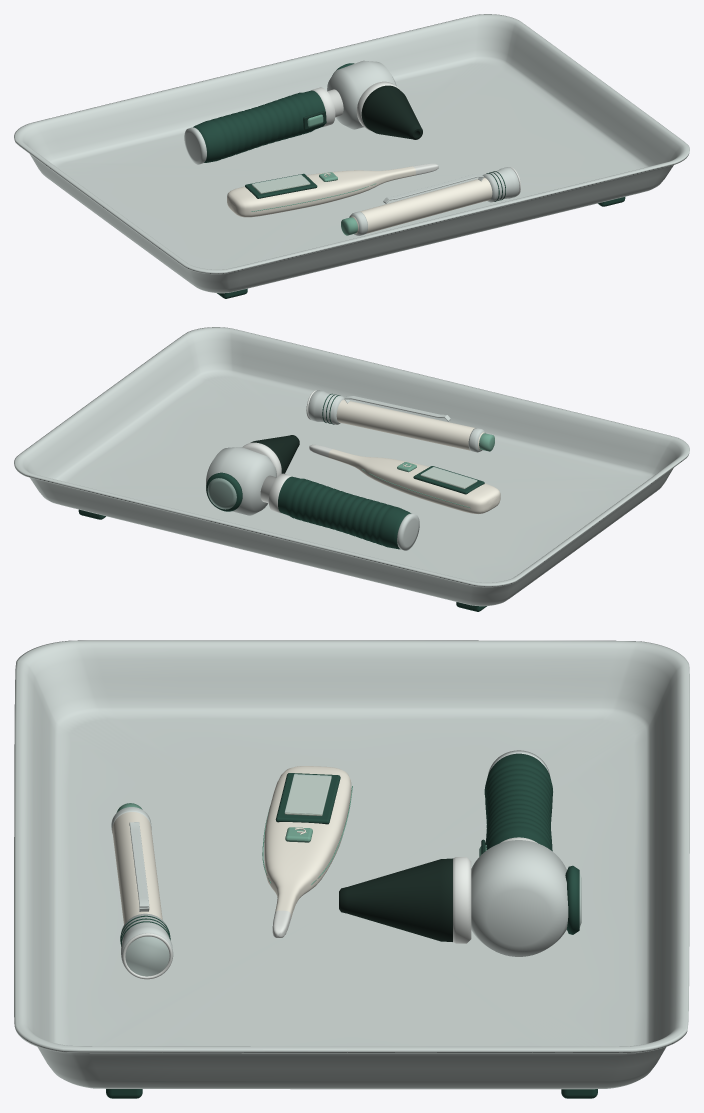
File: instruments-tray.glb
The picture shows the model from 3 angles, top to bottom: view 1: azimuth 30°, elevation 25°; view 2: azimuth 150°, elevation 25°; view 3: azimuth 270°, elevation 25°; orthographic projection. The views are drawn at different scales.
Visible parts, largest first — view 1: Tray | continuous rolled steel shell, Otoscope | connected ribbed grip, Thermometer | continuous waist and probe, Penlight | continuous ivory barrel, Otoscope | hollow speculum, Otoscope | rounded optical housing, Penlight | machined optical collar, Otoscope | battery cap, Otoscope | neck collar, Thermometer | inactive blank display, Thermometer | clear screen cover, Thermometer | LCD molded bezel (+1 smaller); view 2: Tray | continuous rolled steel shell, Otoscope | connected ribbed grip, Thermometer | continuous waist and probe, Penlight | continuous ivory barrel, Otoscope | rounded optical housing, Otoscope | ocular frame, Penlight | machined optical collar, Otoscope | hollow speculum, Otoscope | ocular lens, Otoscope | battery cap, Otoscope | neck collar, Thermometer | inactive blank display (+3 smaller); view 3: Tray | continuous rolled steel shell, Otoscope | rounded optical housing, Thermometer | continuous waist and probe, Otoscope | hollow speculum, Otoscope | connected ribbed grip, Penlight | continuous ivory barrel, Penlight | machined optical collar, Otoscope | speculum steel mount, Thermometer | clear screen cover, Thermometer | inactive blank display, Penlight | clear protective lens, Thermometer | LCD molded bezel (+2 smaller).
Boxes of the visible parts, bbox=[...] form: Tray | continuous rolled steel shell: bbox=[14, 14, 689, 293]; Otoscope | connected ribbed grip: bbox=[193, 90, 325, 162]; Thermometer | continuous waist and probe: bbox=[227, 163, 438, 217]; Penlight | continuous ivory barrel: bbox=[351, 177, 492, 233]; Otoscope | hollow speculum: bbox=[361, 85, 422, 139]; Otoscope | rounded optical housing: bbox=[327, 60, 396, 129]; Penlight | machined optical collar: bbox=[482, 167, 519, 202]; Otoscope | battery cap: bbox=[184, 127, 206, 164]; Otoscope | neck collar: bbox=[311, 87, 343, 127]; Thermometer | inactive blank display: bbox=[252, 175, 310, 193]; Thermometer | clear screen cover: bbox=[252, 174, 310, 192]; Thermometer | LCD molded bezel: bbox=[245, 173, 317, 198]; Tray | continuous rolled steel shell: bbox=[14, 327, 689, 606]; Otoscope | connected ribbed grip: bbox=[278, 476, 411, 549]; Thermometer | continuous waist and probe: bbox=[309, 444, 500, 514]; Penlight | continuous ivory barrel: bbox=[336, 399, 484, 450]; Otoscope | rounded optical housing: bbox=[206, 447, 276, 515]; Otoscope | ocular frame: bbox=[206, 472, 242, 511]; Penlight | machined optical collar: bbox=[308, 390, 344, 424]; Otoscope | hollow speculum: bbox=[250, 435, 299, 473]; Otoscope | ocular lens: bbox=[207, 478, 236, 509]; Otoscope | battery cap: bbox=[397, 513, 419, 550]; Otoscope | neck collar: bbox=[260, 473, 292, 513]; Thermometer | inactive blank display: bbox=[420, 468, 477, 489]; Tray | continuous rolled steel shell: bbox=[14, 640, 689, 1089]; Otoscope | rounded optical housing: bbox=[471, 840, 568, 956]; Thermometer | continuous waist and probe: bbox=[264, 766, 351, 937]; Otoscope | hollow speculum: bbox=[339, 858, 452, 941]; Otoscope | connected ribbed grip: bbox=[484, 753, 552, 851]; Penlight | continuous ivory barrel: bbox=[112, 812, 162, 924]; Penlight | machined optical collar: bbox=[121, 913, 173, 975]; Otoscope | speculum steel mount: bbox=[453, 857, 471, 943]; Thermometer | clear screen cover: bbox=[284, 774, 331, 814]; Thermometer | inactive blank display: bbox=[284, 775, 331, 816]; Penlight | clear protective lens: bbox=[125, 936, 169, 976]; Thermometer | LCD molded bezel: bbox=[275, 773, 340, 824].
Size of the model in its own units: 0.4478 by 0.0695 by 0.3118.
